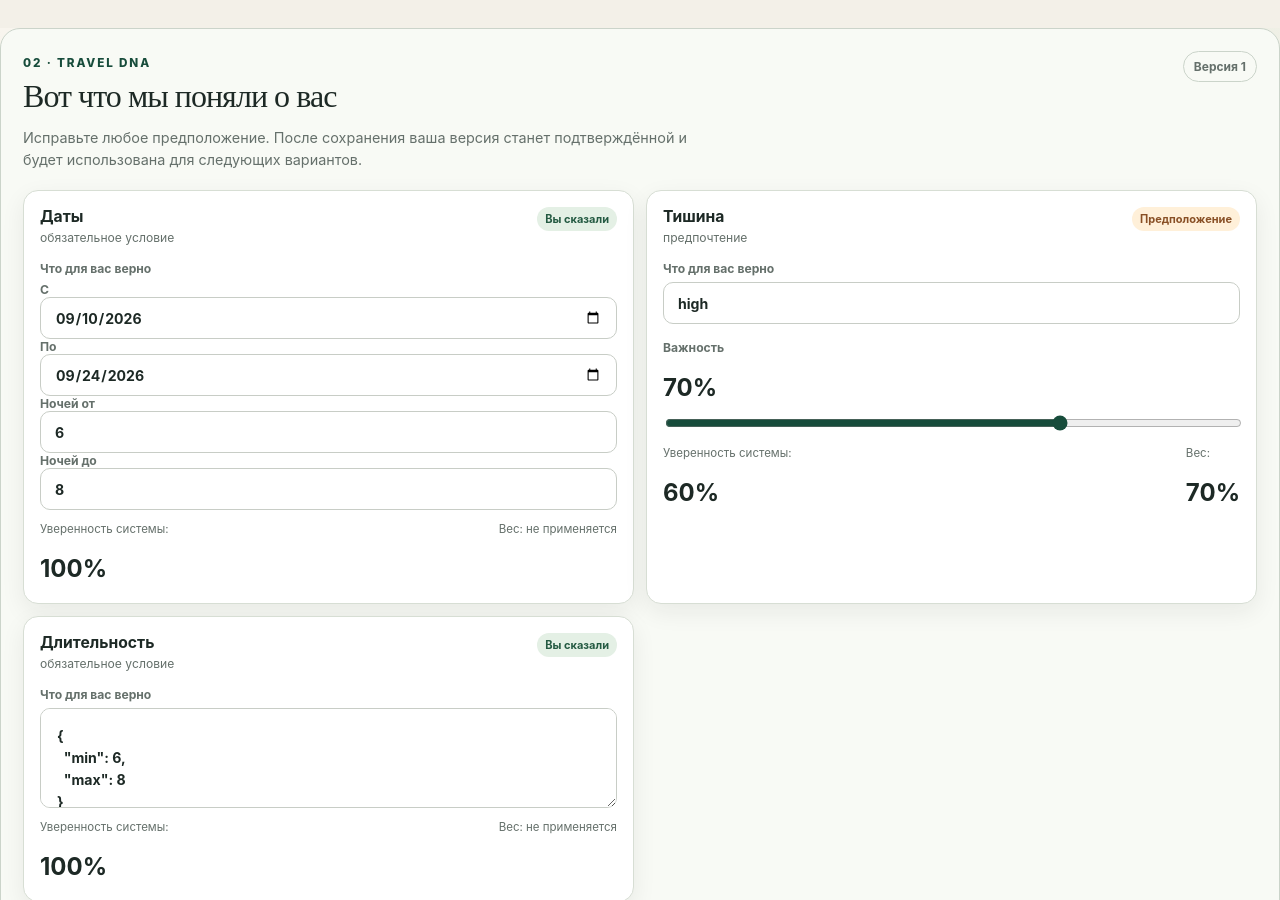
Test: TravelDnaPanel › keeps edits and shows an error when saving is rejected
The width and height of the screenshot is (1280, 900).
Replace the text in the field named "Значение: Тишина" with "very quiet": (952, 303) [663,282,1240,324]
(page scrolled)
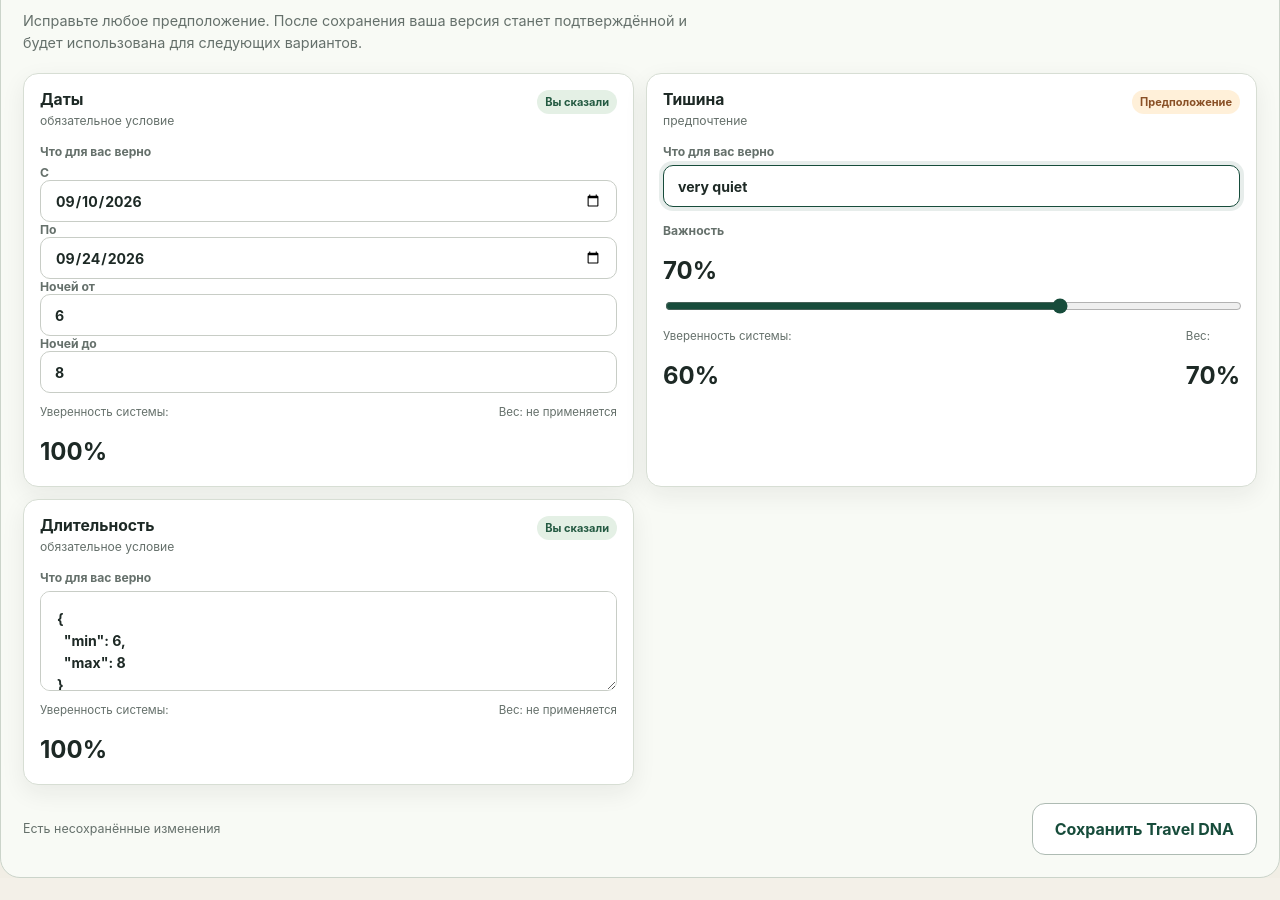
Click the button "Сохранить Travel DNA": (1144, 829) [1032,803,1257,855]
(page scrolled)
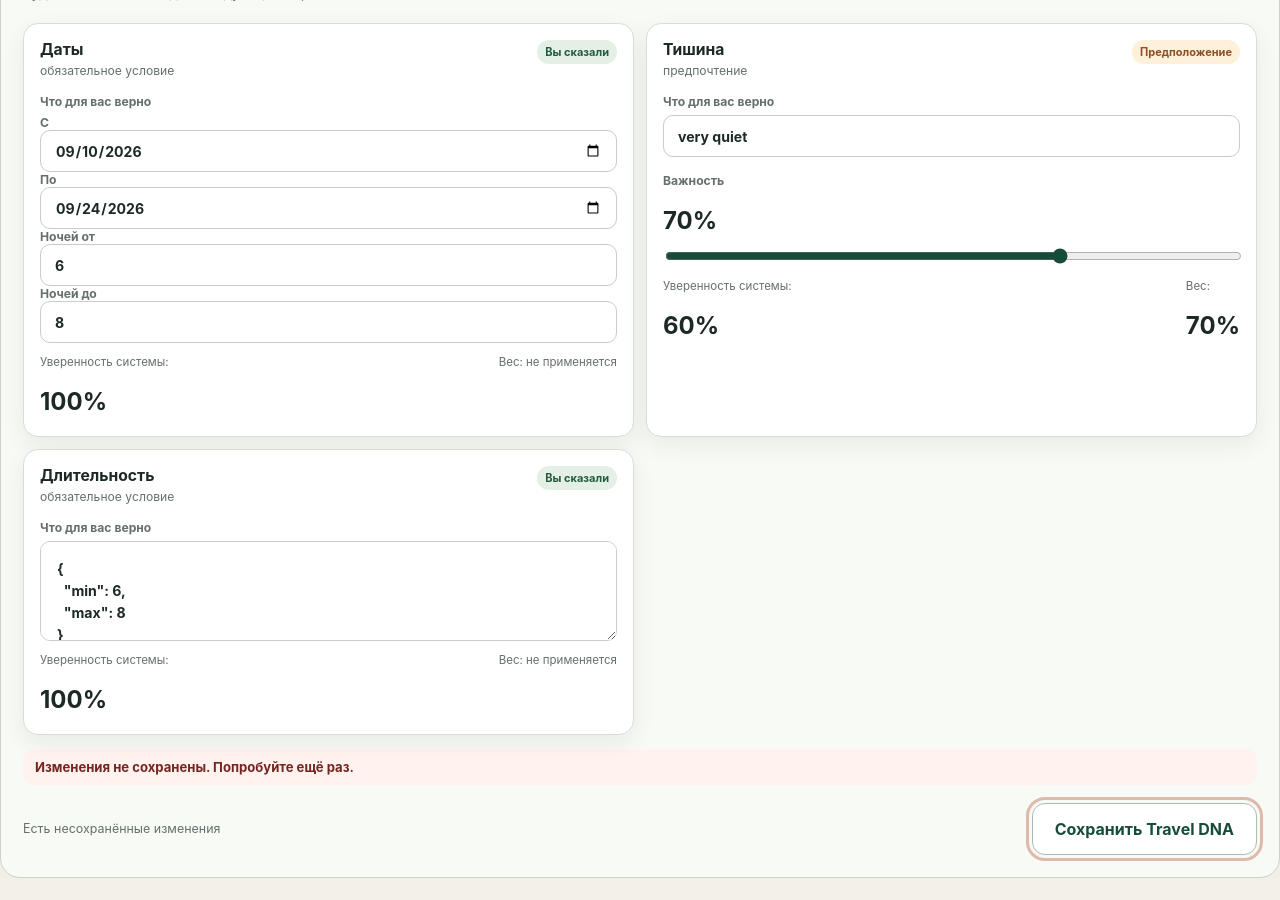
Expected: the button "Сохранить Travel DNA" is enabled, [1032,803,1257,855]
Expected: the message shows "Изменения не сохранены", [35,759,354,775]
